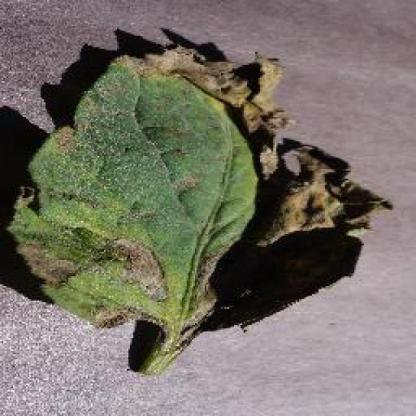Tomato_Blight: (11, 49, 392, 363)
